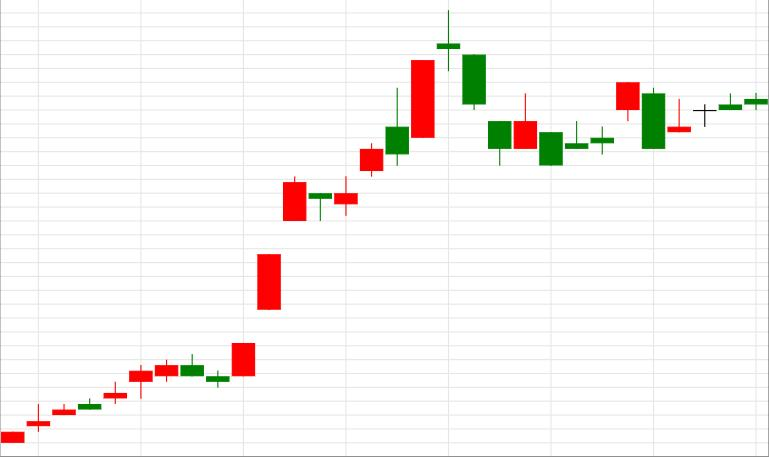evening_star_fall: (231, 11, 486, 376)
